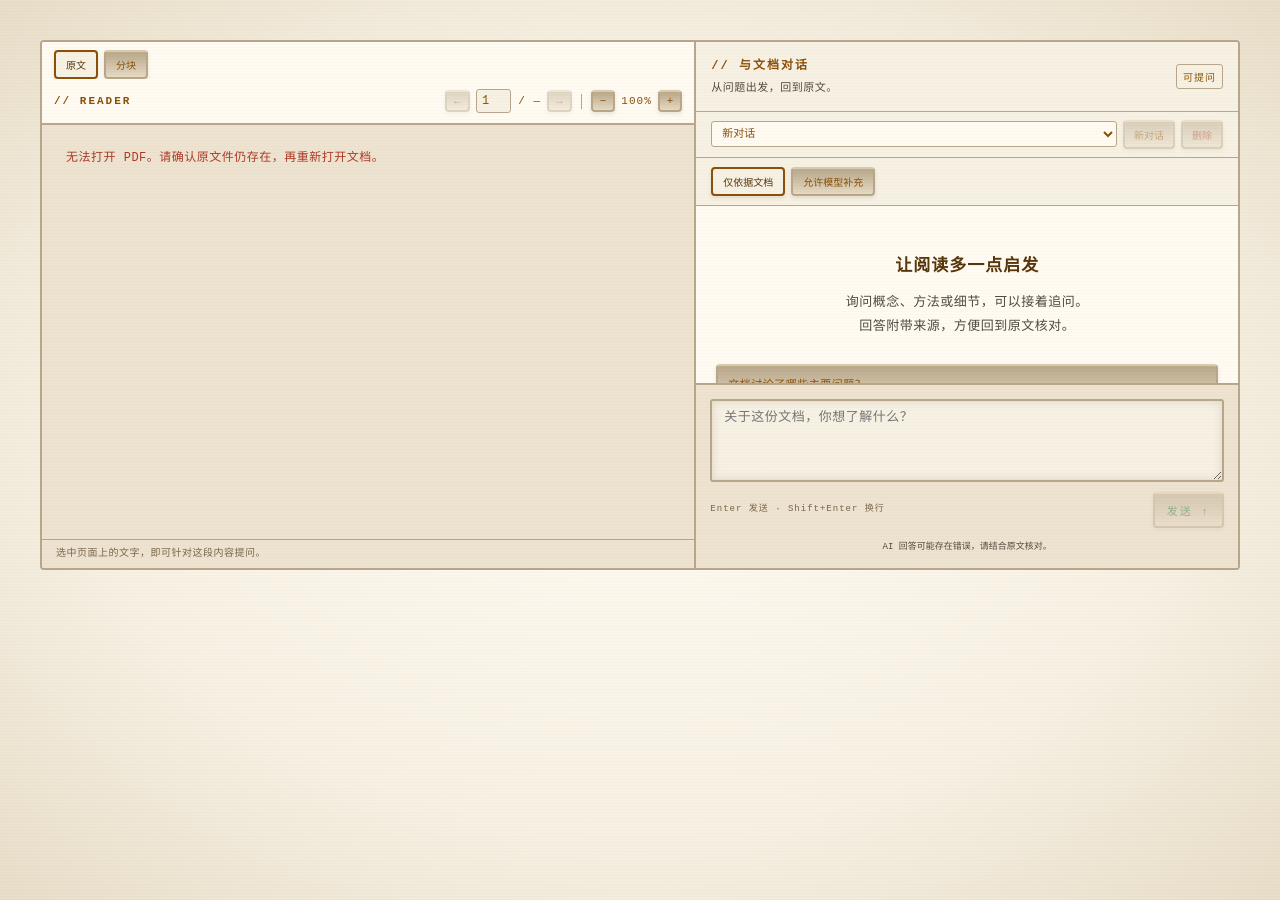
Scenario: disables submission until the document finishes indexing
Later steps or results of the test are not shown.
Expected: the button "发送 ↑" is disabled, [1153, 492, 1224, 528]
Type "Ready" into the text box at (967, 440), box [710, 399, 1224, 482]
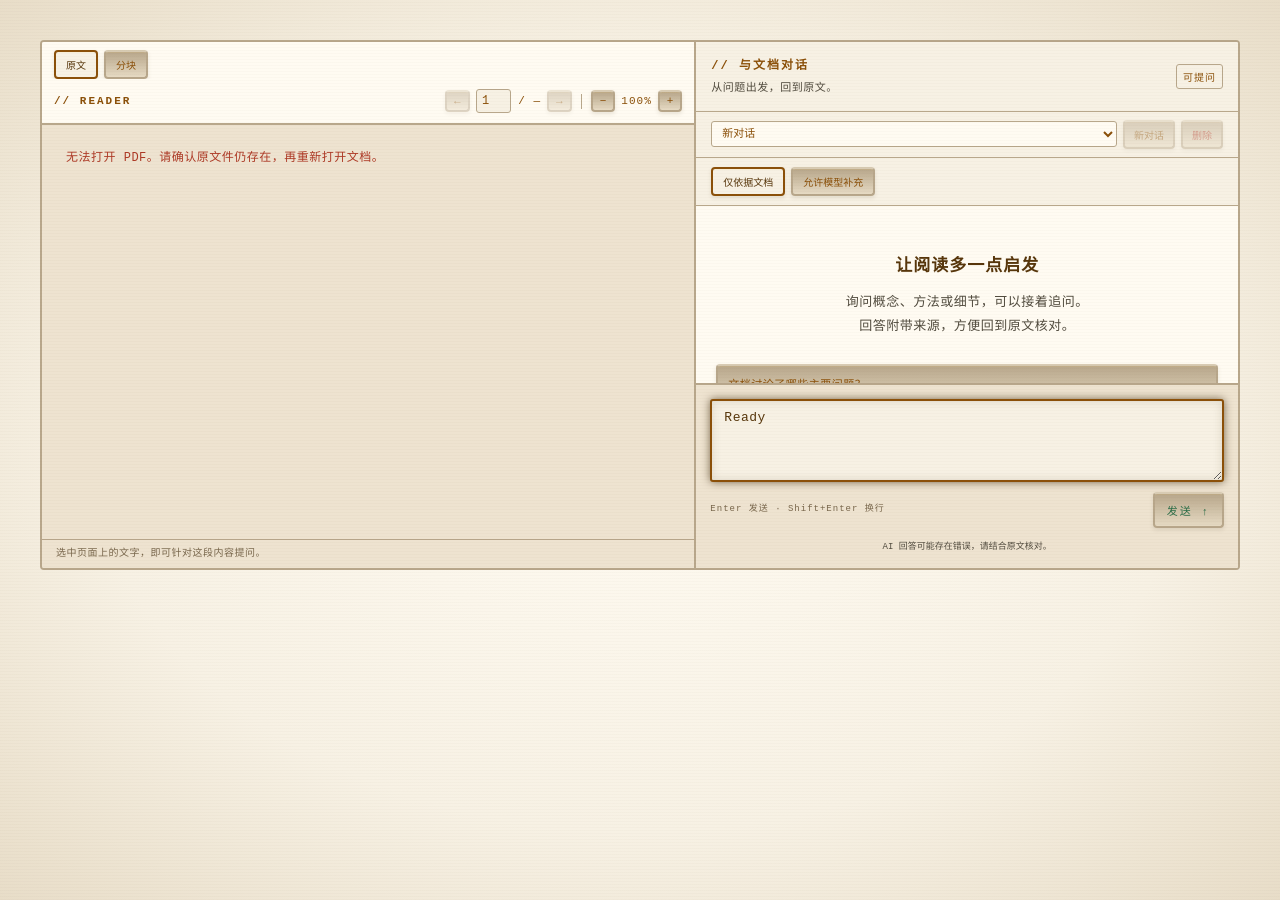
Now the button "发送 ↑" is enabled, box [1153, 492, 1224, 528]
